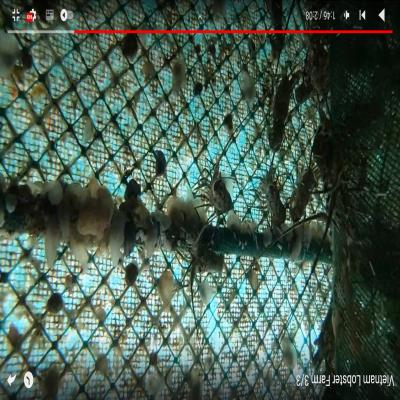lobster: (184, 234, 224, 282), (204, 165, 234, 218), (268, 73, 287, 149), (290, 160, 315, 217), (262, 174, 287, 226)
